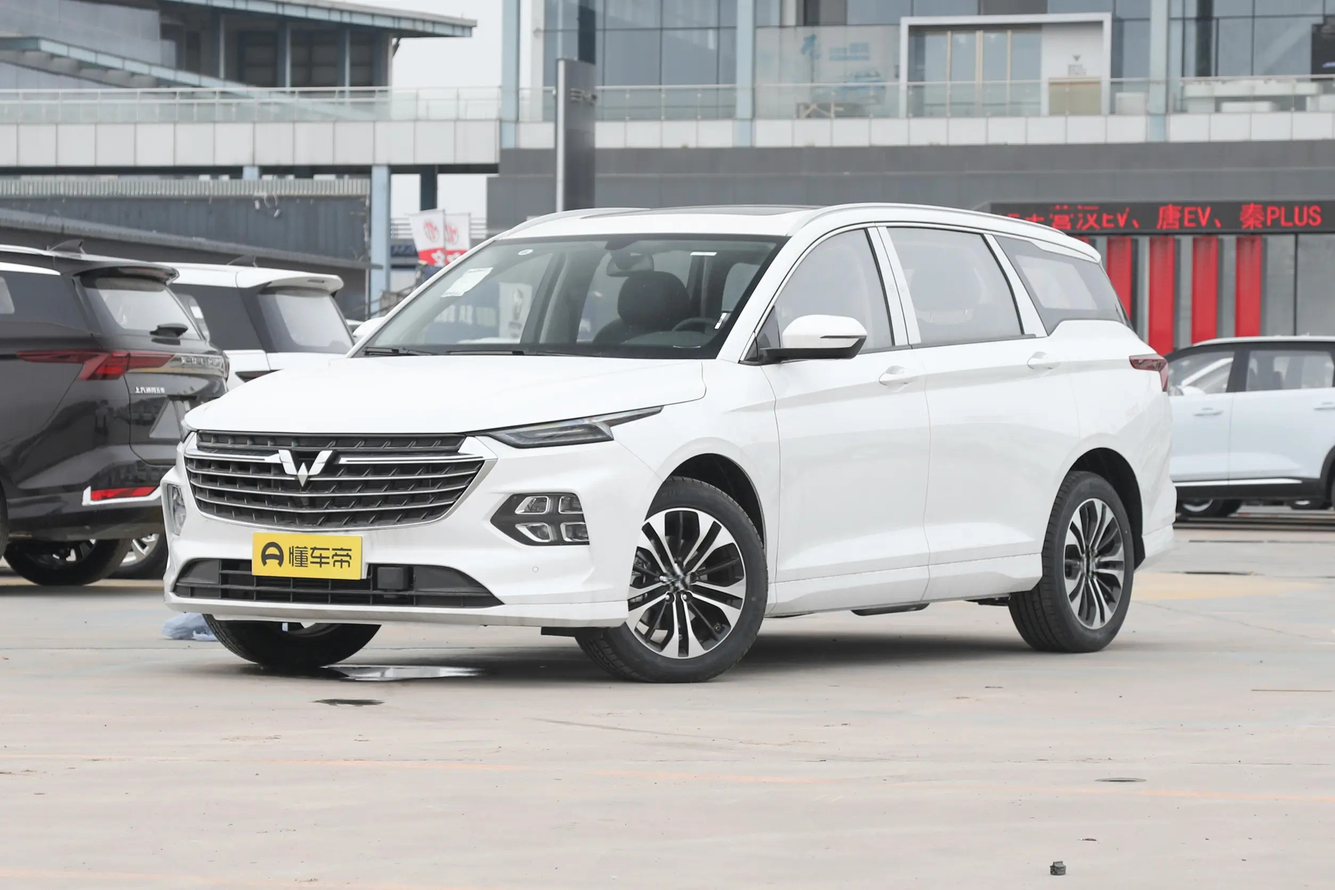SGMW: (278, 449, 332, 486)
